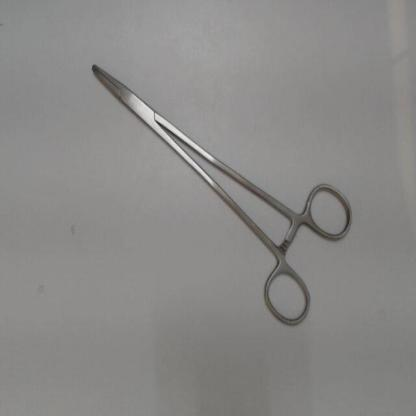8 Mayo Needle Holder: (78, 51, 360, 336)
